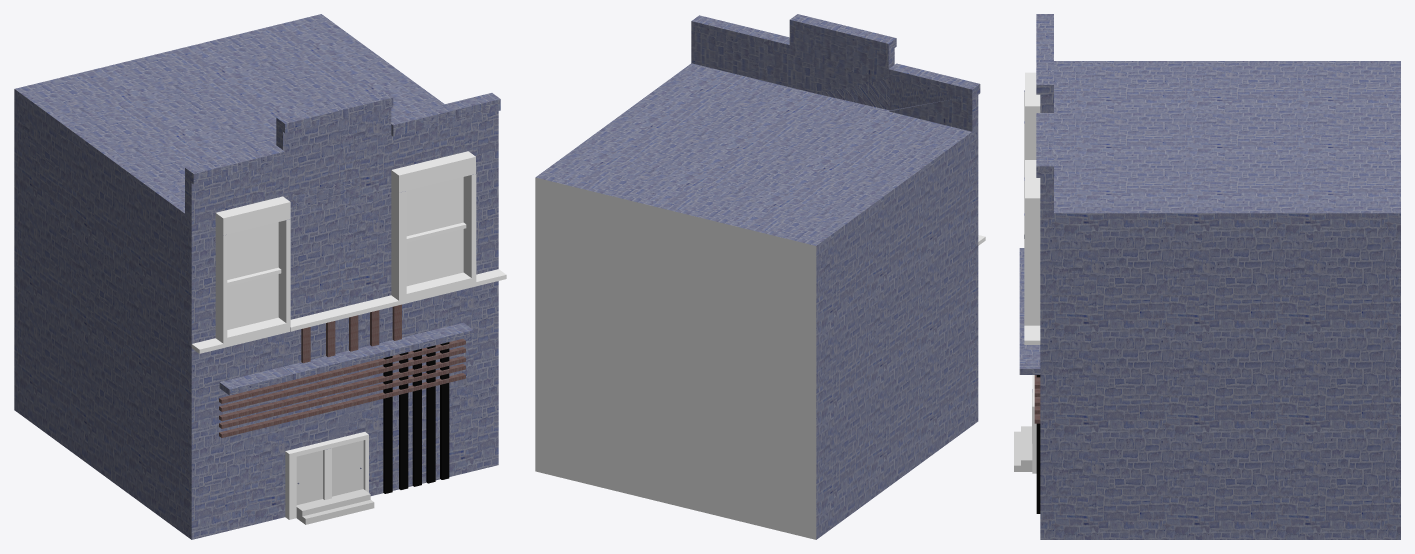
Rendered from Building_TWO_VAL.fbx.
The picture shows the model from 3 angles, left to right: view 1: azimuth 30°, elevation 25°; view 2: azimuth 150°, elevation 25°; view 3: azimuth 270°, elevation 25°; orthographic projection. The views are drawn at different scales.
Parts seen in each view (by area): view 1: house, pCube13, pCube15, pCube12, pCube14, pCube16, pCube11, pCube7, pCube9, pCube10, pCube8, steps1 (+1 smaller); view 2: house; view 3: house, pCube8, steps1.
Part boxes in pixels (x1,y1,x2,y2): house: (14, 14, 506, 539); pCube13: (219, 364, 465, 428); pCube15: (219, 347, 465, 411); pCube12: (219, 356, 465, 420); pCube14: (219, 373, 465, 437); pCube16: (219, 339, 465, 403); pCube11: (383, 356, 392, 493); pCube7: (426, 345, 435, 483); pCube9: (412, 348, 421, 486); pCube10: (399, 352, 408, 489); pCube8: (440, 342, 449, 479); steps1: (296, 489, 370, 516); house: (535, 14, 985, 539); house: (1019, 14, 1400, 539); pCube8: (1036, 375, 1040, 513); steps1: (1021, 426, 1032, 465).
Bounding box in the file's own units: 3.48 × 4.29 × 3.74.
